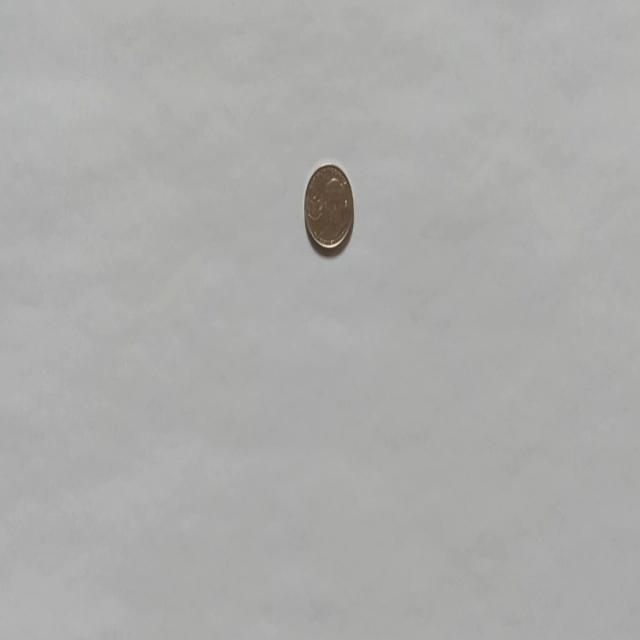seribu rupiah koin: (302, 161, 354, 252)
